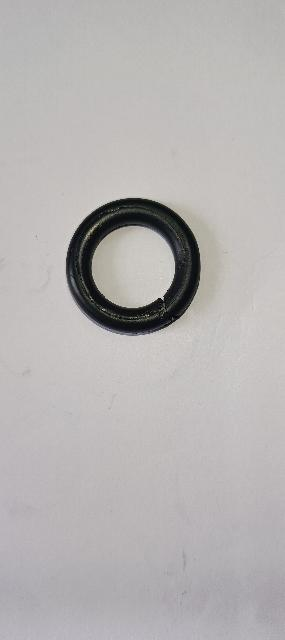4: (99, 201, 194, 276), (72, 250, 158, 323)
crack: (155, 296, 167, 321)
scratch: (169, 316, 181, 322), (162, 322, 168, 328)
